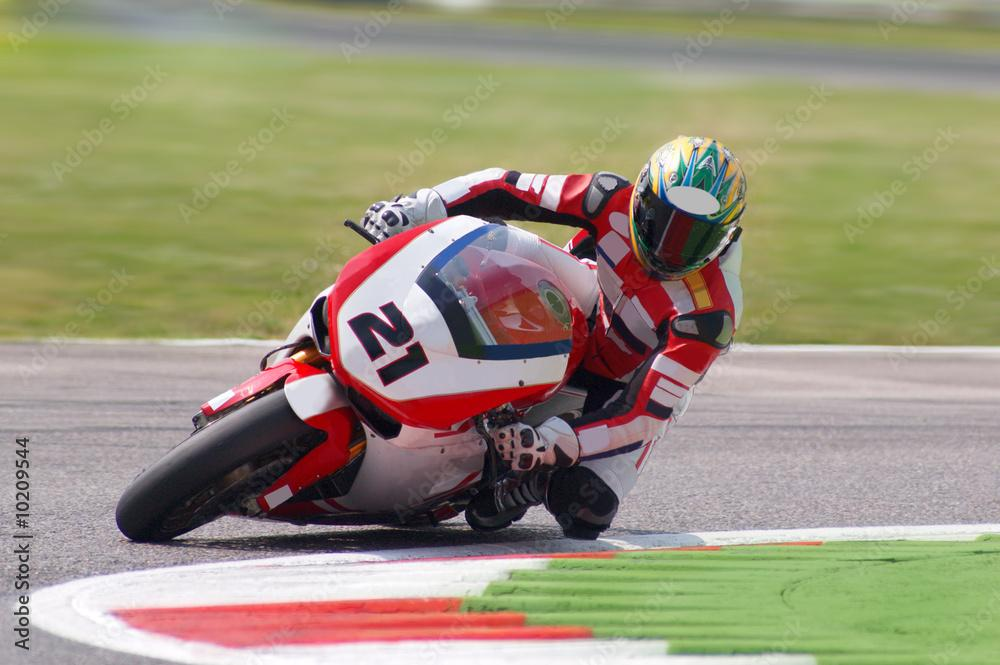helmet: (627, 134, 749, 283)
